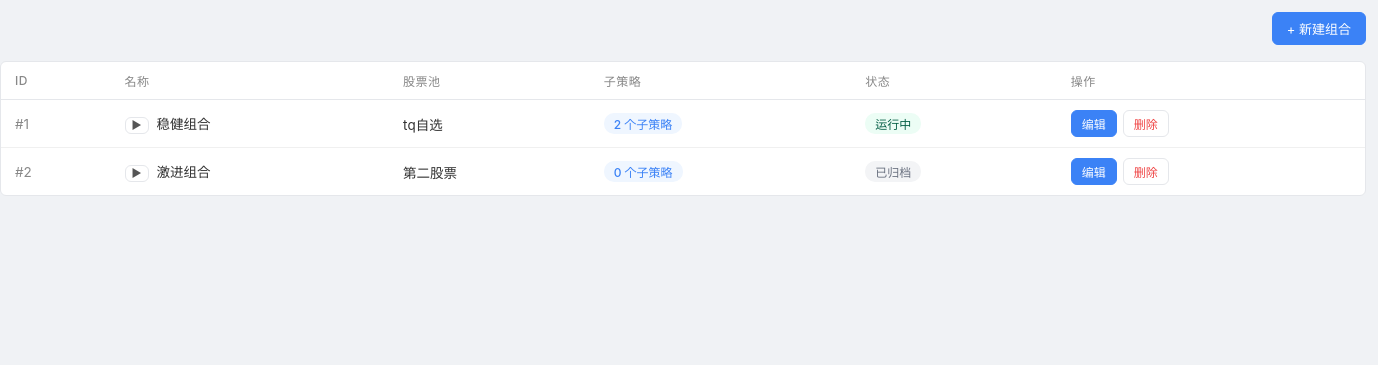
Portfolios.vue — 组合列表（树状） › 点展开按钮 → 调 getStrategies(pid)，子策略子行出现
The width and height of the screenshot is (1378, 365).
Click the button with class "toggle-expand" next to "稳健组合". click: click(137, 126)
box: [125, 117, 149, 134]
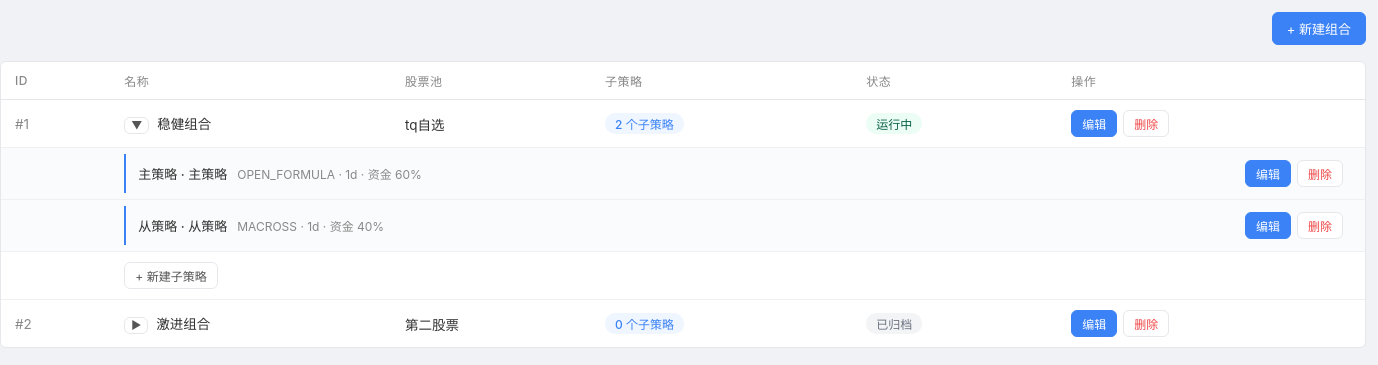
expect the number of rows with class "strategy-sub-row" is 2: met, box [1, 148, 1365, 200]; [1, 200, 1365, 252]
expect the text "主策略" is shown: met, box [138, 166, 227, 182]
expect the text "从策略" is shown: met, box [138, 218, 227, 234]
